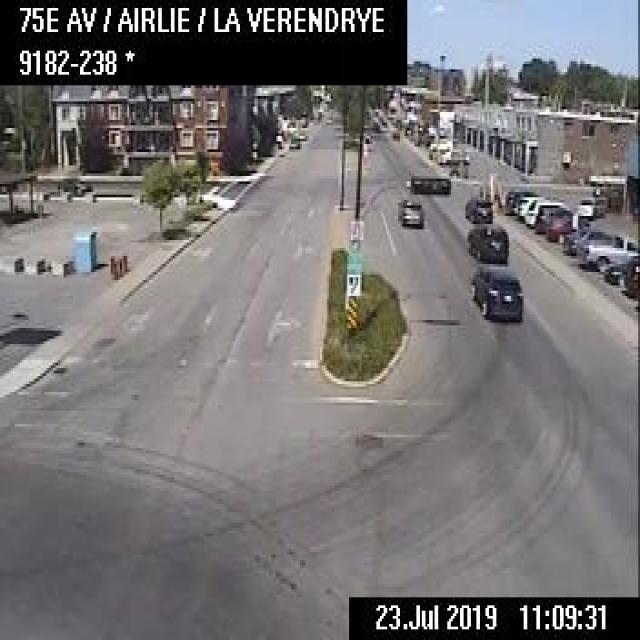construction: (112, 256, 119, 277), (117, 255, 123, 275), (108, 254, 114, 272), (121, 251, 126, 272)
vehicle: (468, 264, 522, 323), (577, 231, 638, 270), (464, 221, 509, 262), (562, 225, 612, 254), (544, 209, 587, 242), (532, 202, 574, 234), (524, 197, 566, 227), (461, 193, 495, 222), (398, 195, 423, 227), (56, 175, 91, 195), (576, 195, 608, 216), (623, 254, 638, 292), (436, 147, 468, 164), (602, 258, 623, 282), (515, 194, 531, 217), (288, 137, 299, 147), (390, 128, 399, 138), (296, 130, 306, 139)
